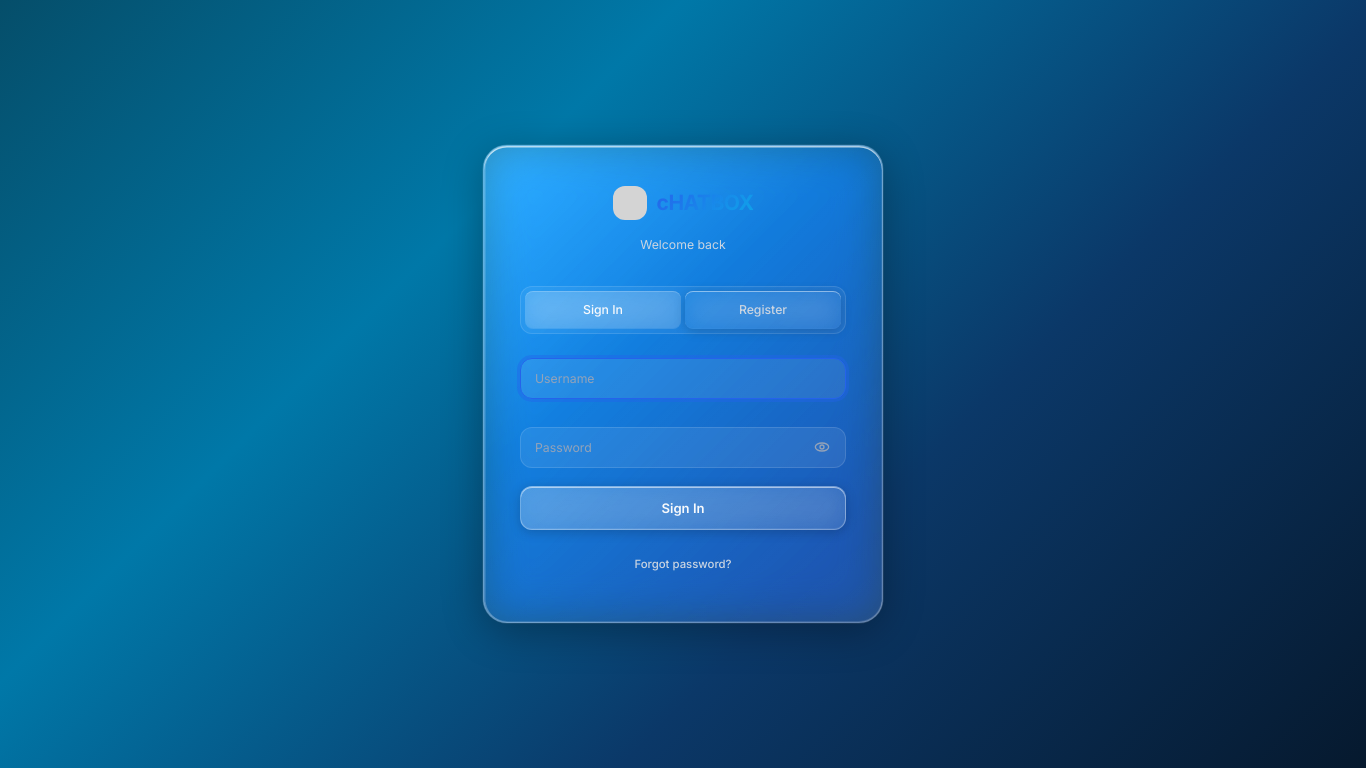
it: LoginPage › switches to register mode and shows "Create Account" button
Click the button "Register": x=763, y=310 [685,292,841,329]
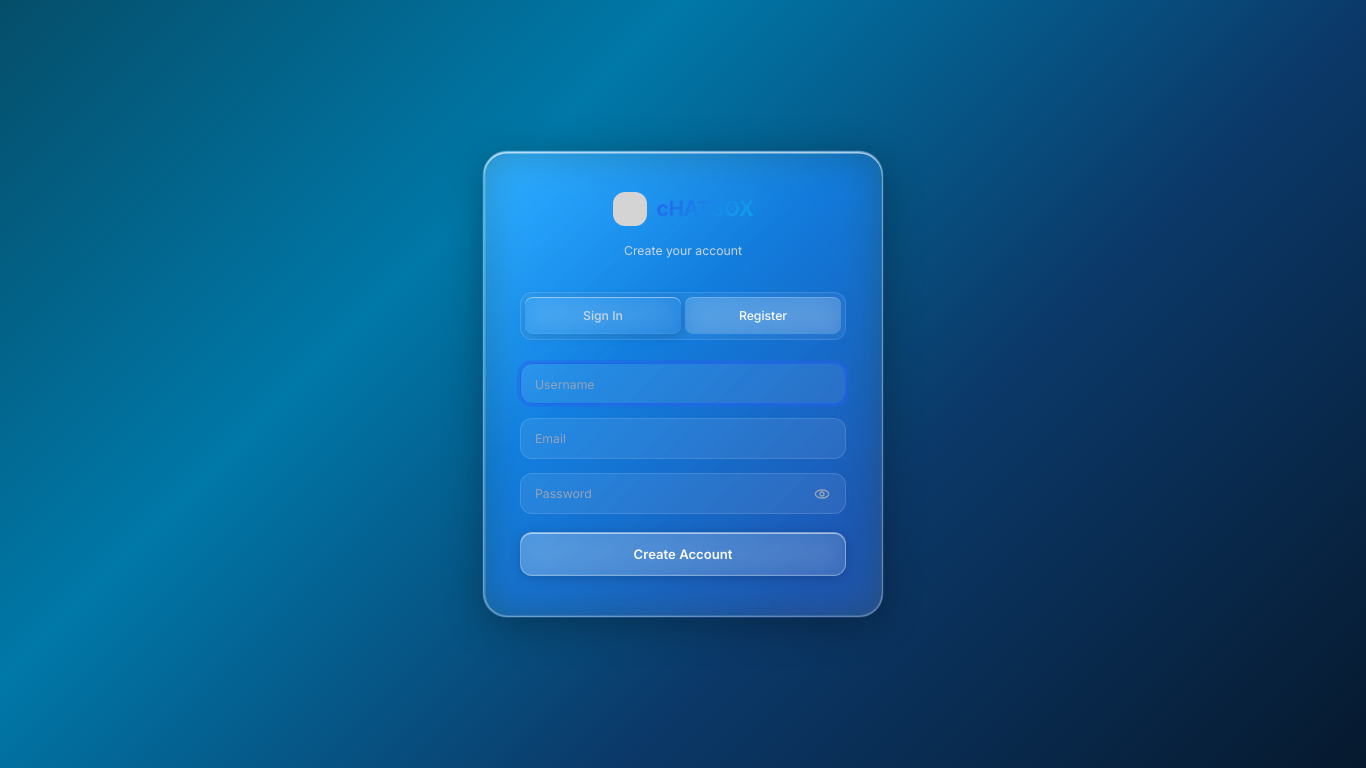
Now the button "Create Account" is shown, box [520,532,846,576]
